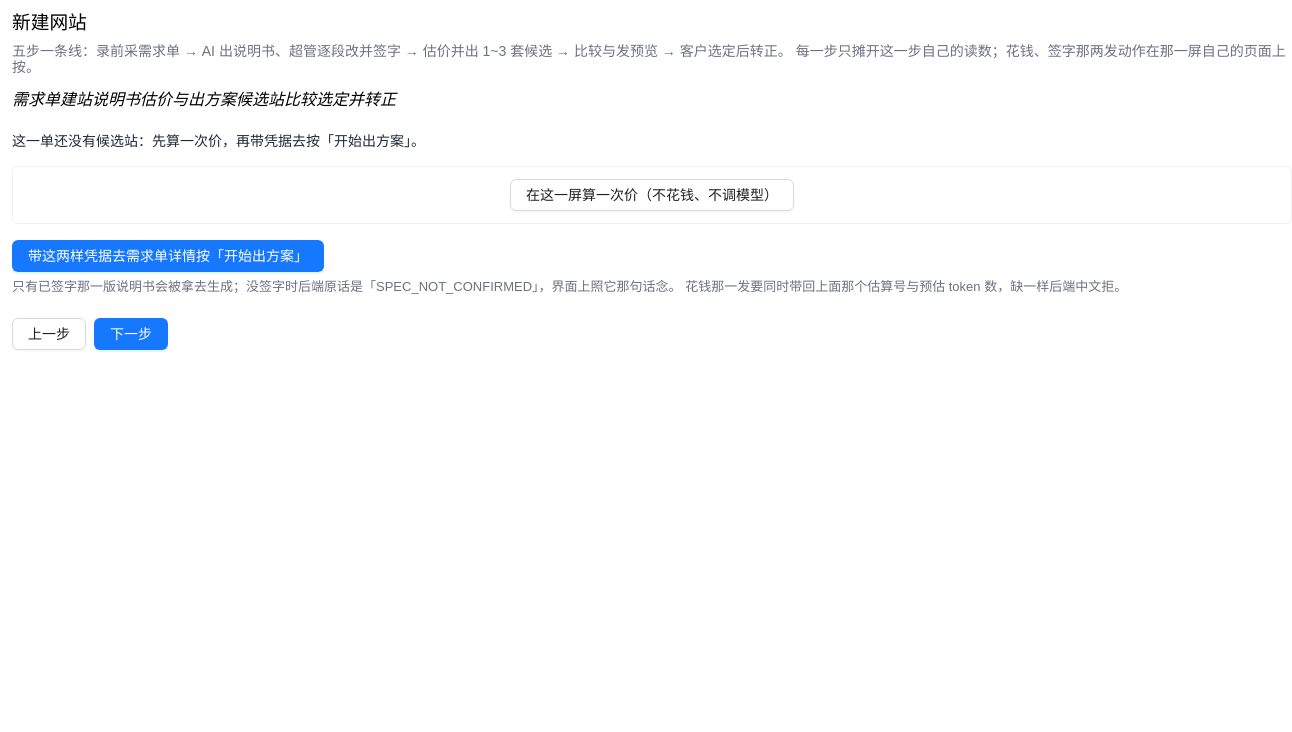
Test case: 新建网站向导 › 第 3 步：后端没回已烧读数时念「没回读数」，不念成 0 发
Click the button "在这一屏算一次价（不花钱、不调模型）" at (652, 194), box [510,178,794,210]
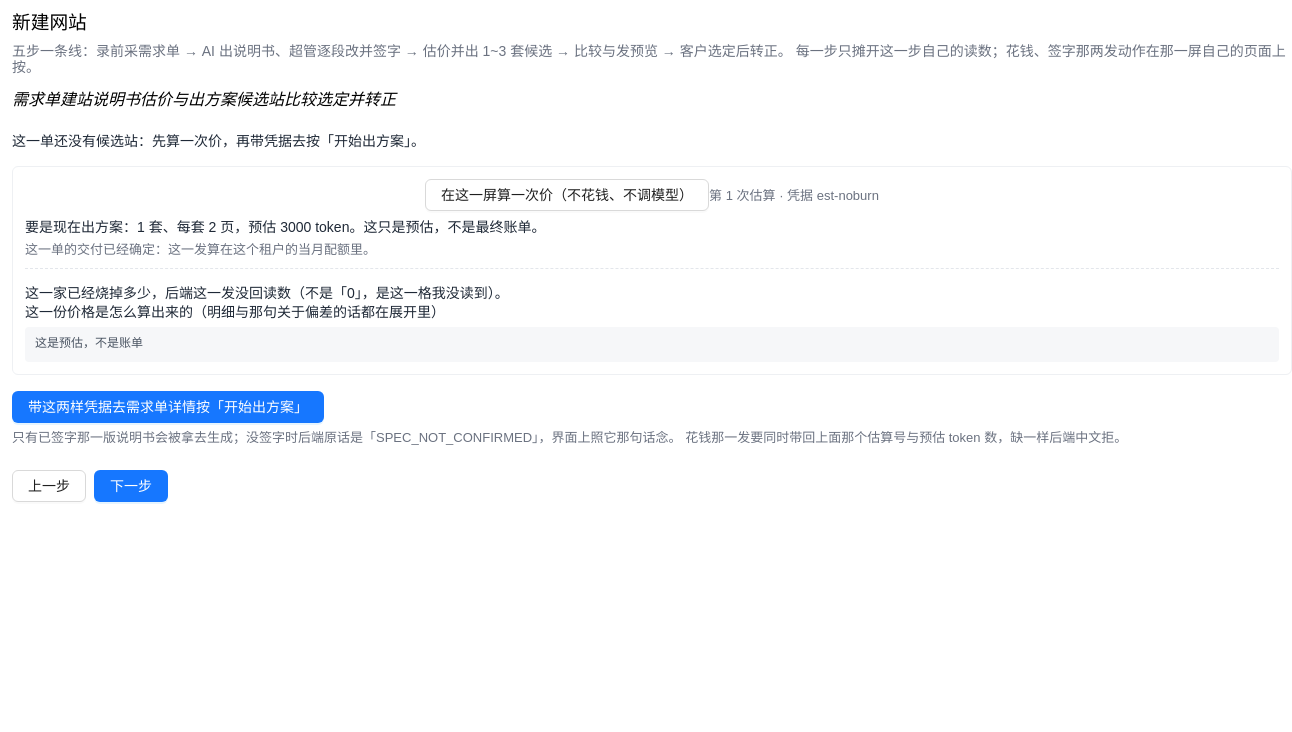
Check: the text "后端这一发没回读数" is shown, box [25,285,509,301]
Check: the text "est-noburn" is shown, box [709,188,879,202]
